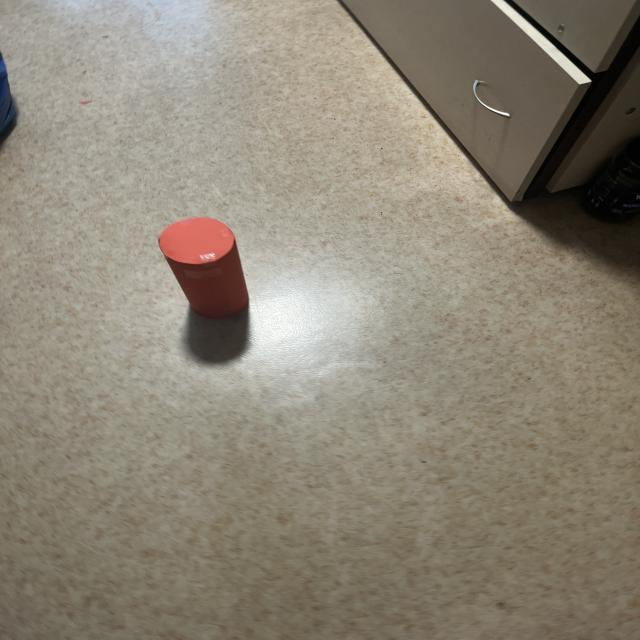przeszkoda: (159, 218, 248, 319)
